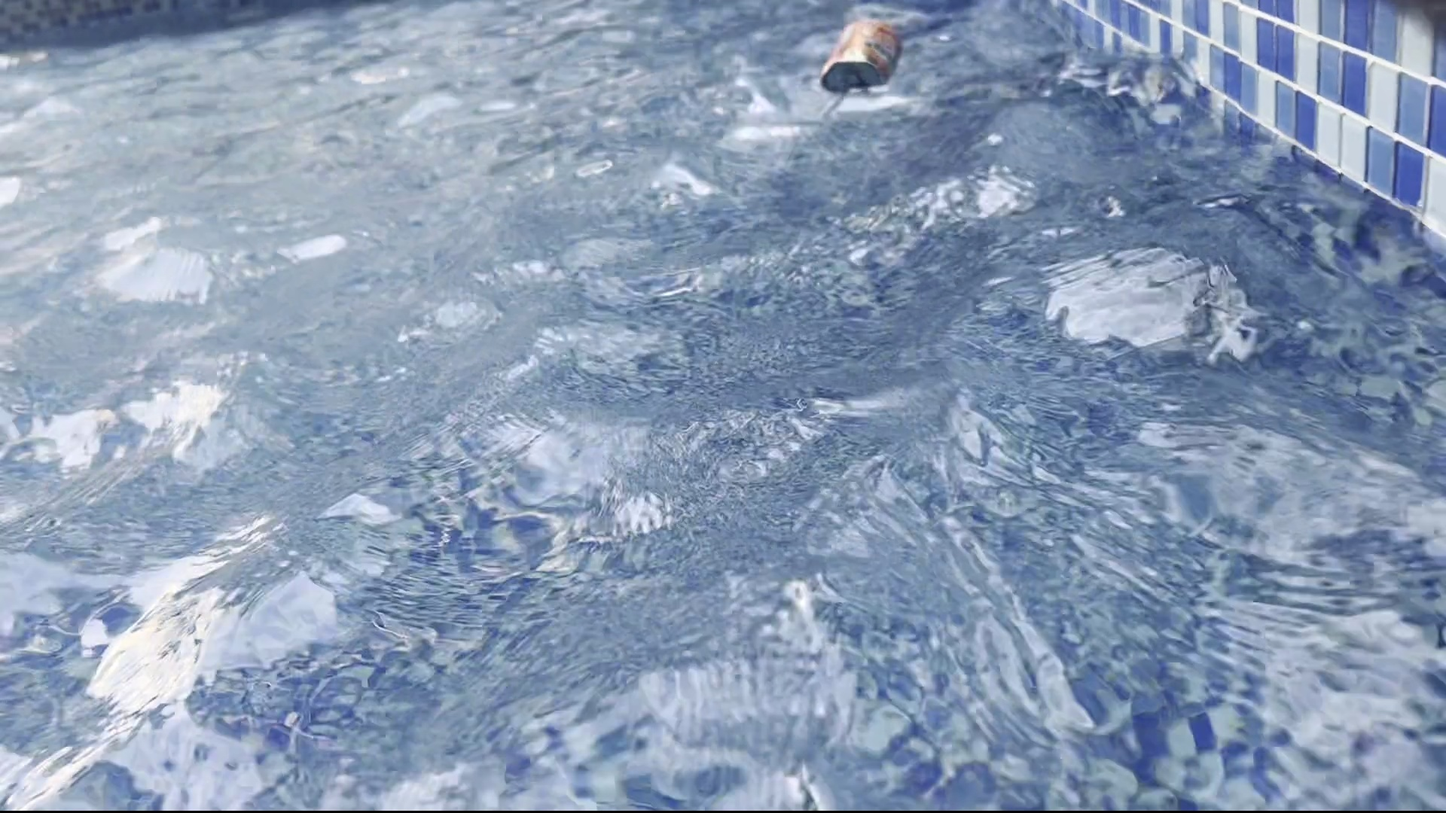debris: (815, 12, 907, 102)
